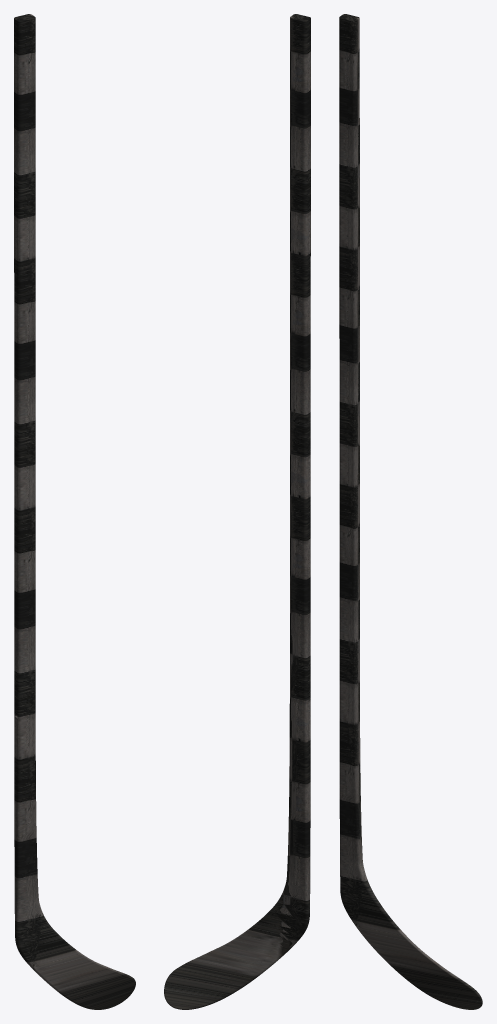
The picture shows the model from 3 angles, left to right: view 1: azimuth 30°, elevation 25°; view 2: azimuth 150°, elevation 25°; view 3: azimuth 330°, elevation 25°; orthographic projection. The views are drawn at different scales.
Parts seen in each view (by area): view 1: geometry_0; view 2: geometry_0; view 3: geometry_0.
Part boxes in pixels (x1,y1,x2,y2): geometry_0: (14, 14, 135, 1009); geometry_0: (164, 14, 310, 1009); geometry_0: (339, 14, 482, 1009).
Size of the model in its own units: 224 by 1650 by 64.92.
1 material, 1 textured.
